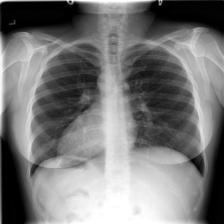normal: (26, 36, 208, 180)
